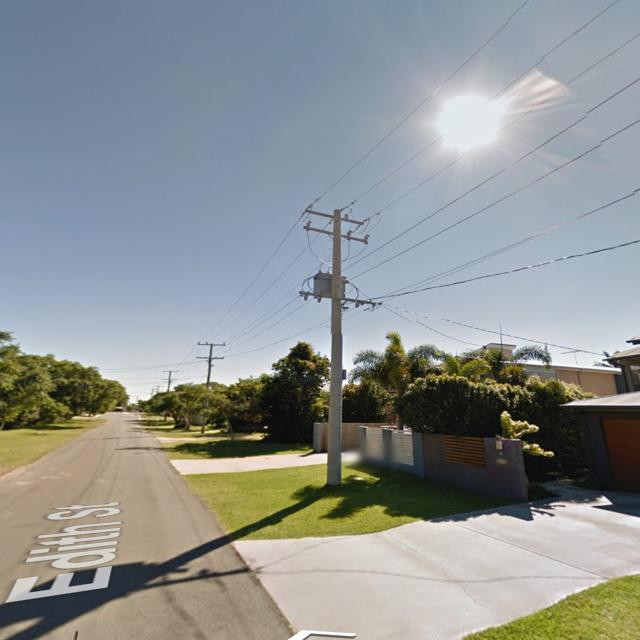HV-transmission: (301, 207, 369, 245), (197, 342, 226, 361)
concrete-pole: (326, 209, 342, 486)
crossarm: (304, 221, 369, 244), (299, 291, 382, 307), (305, 209, 364, 226), (198, 341, 225, 348), (196, 356, 225, 362)
timber-pole: (202, 343, 214, 434)
transformer: (312, 272, 347, 300)
